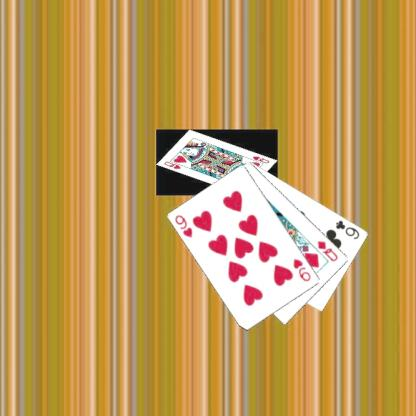6C: (333, 218, 361, 240)
9H: (290, 255, 312, 283), (172, 212, 194, 240)
QD: (315, 238, 339, 263)
